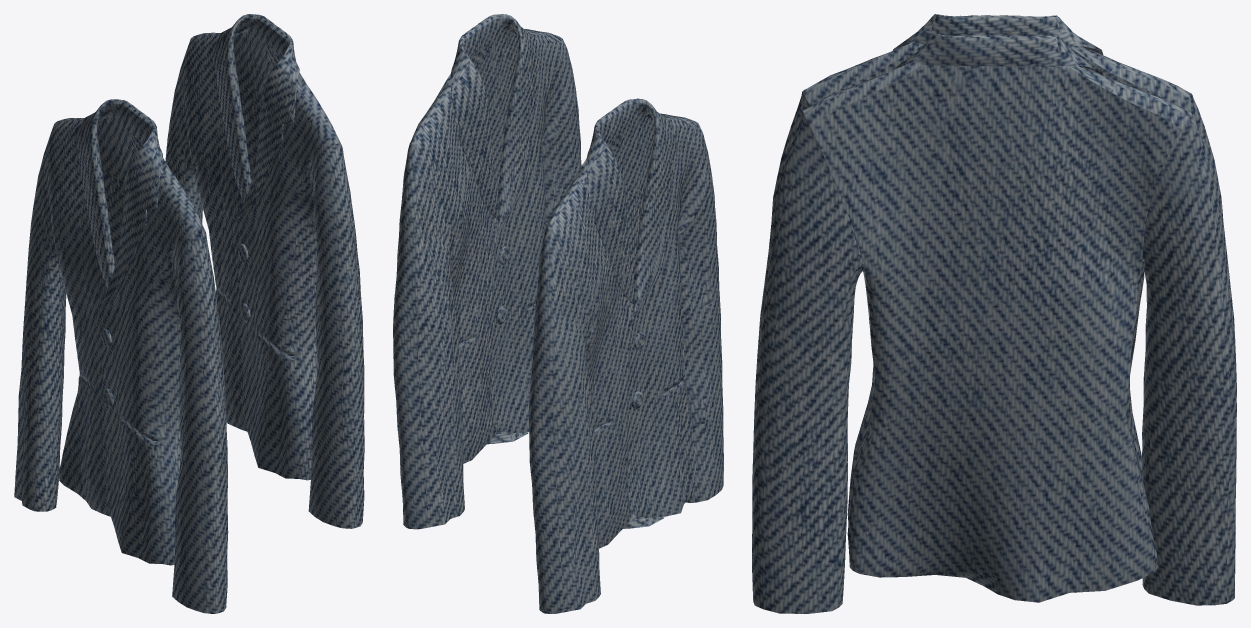
Rendered from yifu10_xizhuang_01.fbx.
The picture shows the model from 3 angles, left to right: view 1: azimuth 30°, elevation 25°; view 2: azimuth 150°, elevation 25°; view 3: azimuth 270°, elevation 25°; orthographic projection. The views are drawn at different scales.
Visible parts, largest first — view 1: yifu10_xizhuang_01; view 2: yifu10_xizhuang_01; view 3: yifu10_xizhuang_01.
Part boxes in pixels (x1,y1,x2,y2): yifu10_xizhuang_01: (14,14,364,613); yifu10_xizhuang_01: (393,14,723,613); yifu10_xizhuang_01: (752,14,1236,613).
Size of the model in its own units: 34.37 by 78.09 by 53.14.
